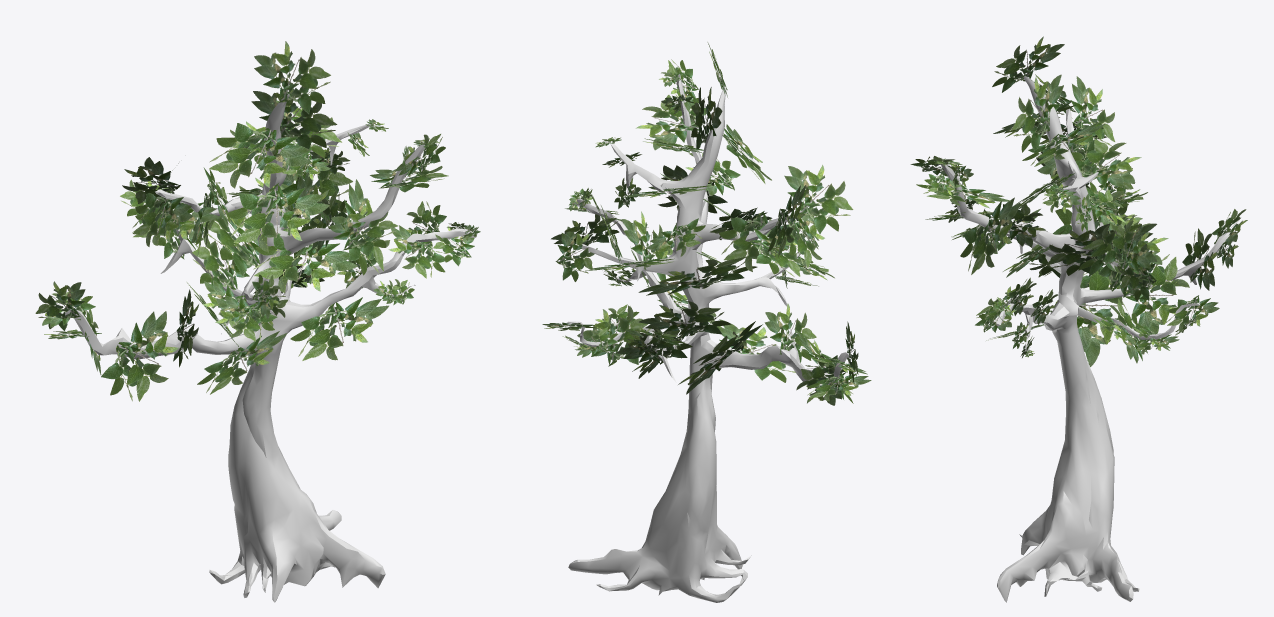
File: TreeSmallData.fbx
3 views of the same model, side by side, from view 1: azimuth 30°, elevation 25°; view 2: azimuth 150°, elevation 25°; view 3: azimuth 270°, elevation 25° (orthographic). The views are drawn at different scales.
Parts seen in each view (by area): view 1: Plane.051, Cube; view 2: Plane.051, Cube; view 3: Plane.051, Cube.
Part boxes in pixels (x1,y1,x2,y2): Plane.051: (35, 41, 480, 401); Cube: (65, 94, 477, 602); Plane.051: (542, 42, 871, 405); Cube: (566, 74, 853, 602); Plane.051: (910, 36, 1247, 366); Cube: (940, 76, 1230, 602).
Size of the model in its own units: 1469 by 2012 by 1176.
